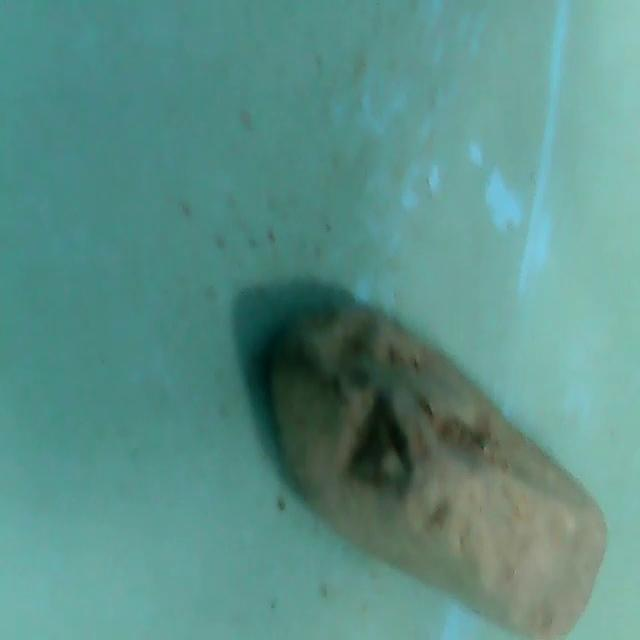rock: (251, 285, 618, 640)
